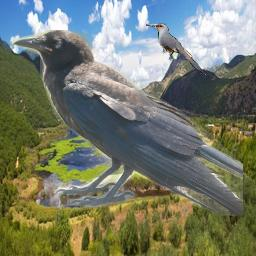Crow: (11, 30, 243, 216)
Cuckoo: (146, 23, 206, 76)
